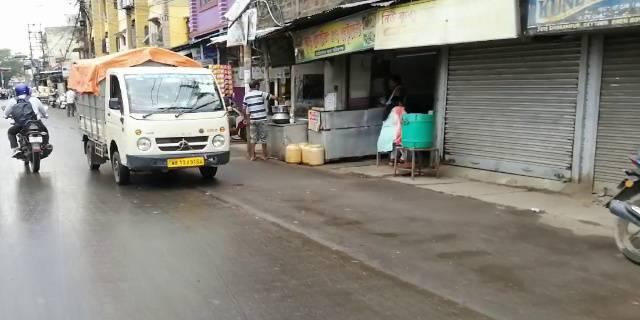Minitruck: (75, 52, 236, 191)
Motorbike: (3, 84, 56, 172)
